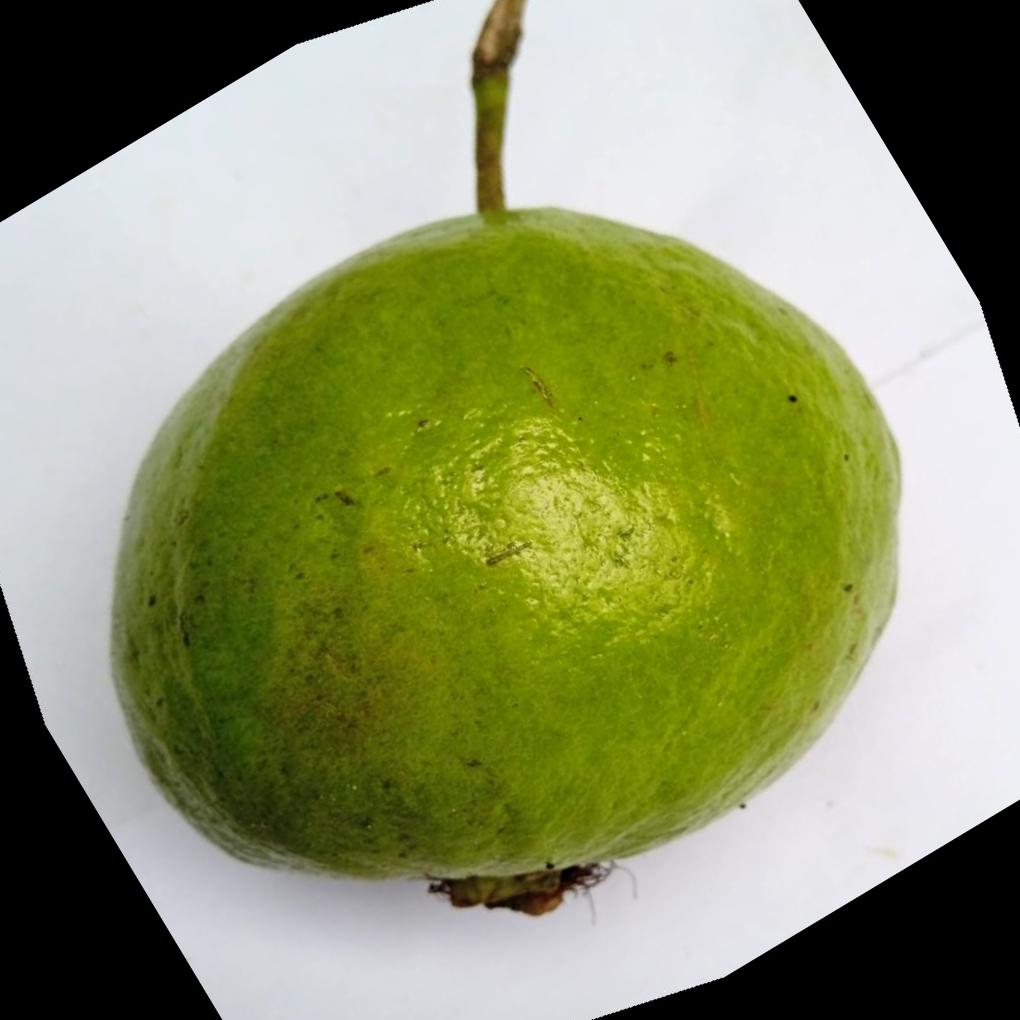FreshGuava: (104, 205, 902, 913)
